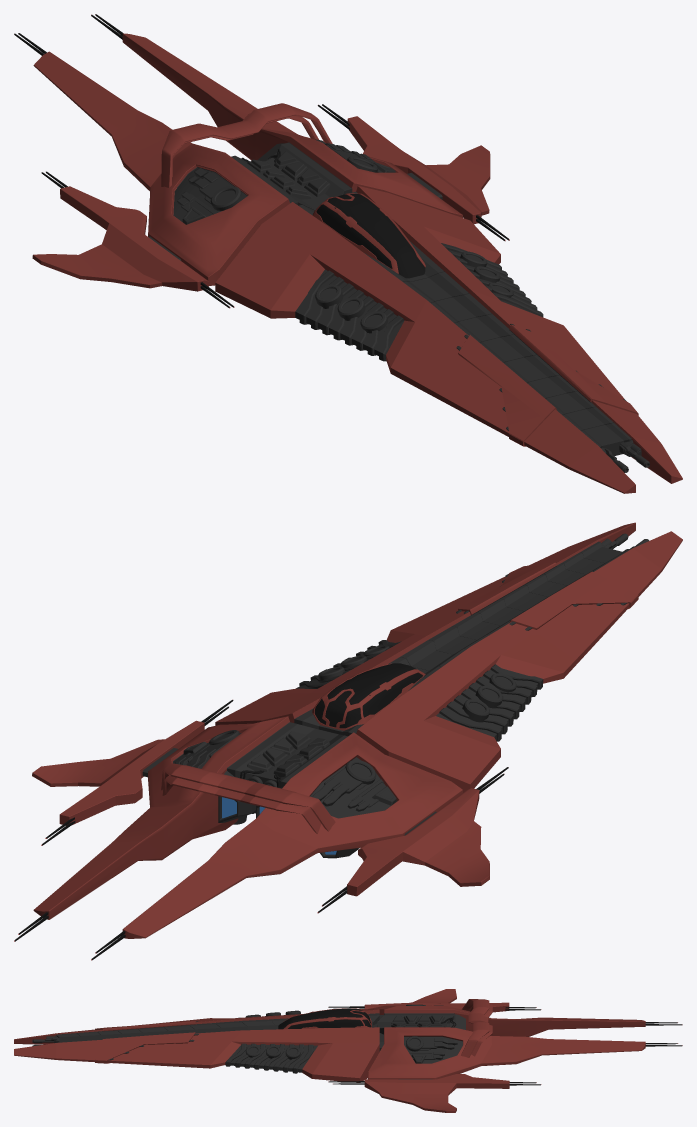
File: starfighter viper 2022.fbx
3 renders of one model, top to bottom at view 1: azimuth 30°, elevation 25°; view 2: azimuth 150°, elevation 25°; view 3: azimuth 270°, elevation 25°, orthographic. The views are drawn at different scales.
Parts seen in each view (by area): view 1: pCube33 (×3); view 2: pCube33 (×3); view 3: pCube33 (×3).
Boxes of the visible parts, x1,y1,x2,y2 form: pCube33 (×3): [14, 14, 682, 493]; pCube33 (×3): [14, 522, 682, 960]; pCube33 (×3): [14, 989, 682, 1112].
Size of the model in its own units: 10.95 by 2.08 by 25.36.
